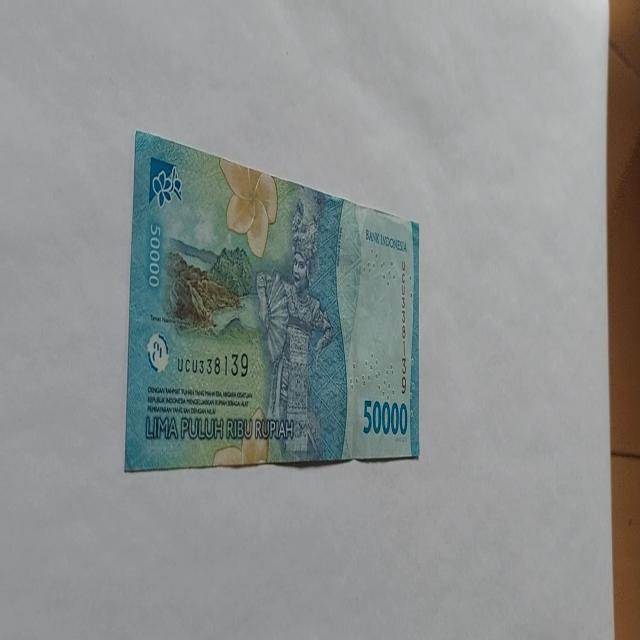lima puluh ribu rupiah: (123, 128, 421, 472)
